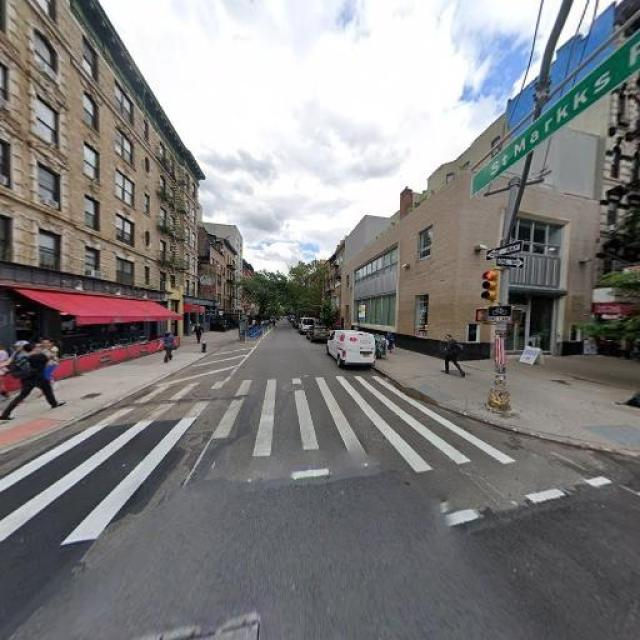Building: (1, 1, 200, 393), (343, 174, 589, 363)
